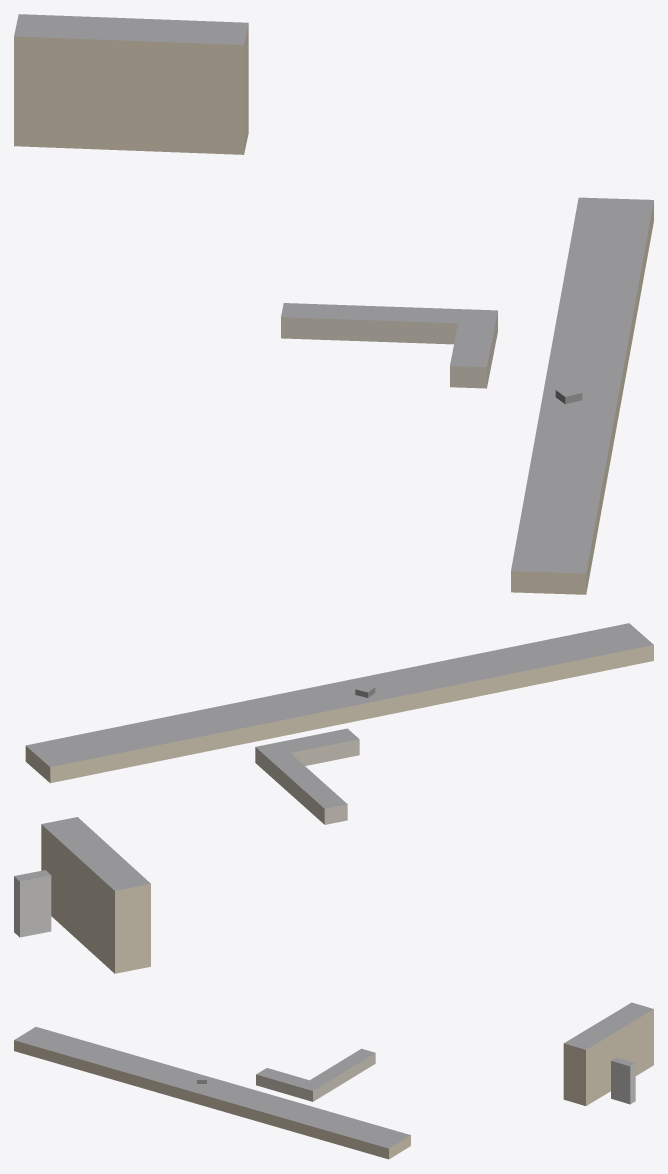
The model's file is building_-6_-5.glb.
The picture shows the model from 3 angles, top to bottom: view 1: azimuth 30°, elevation 25°; view 2: azimuth 150°, elevation 25°; view 3: azimuth 270°, elevation 25°; orthographic projection. The views are drawn at different scales.
Parts seen in each view (by area): view 1: roof, sandstone, concrete_warm; view 2: roof, sandstone, concrete_warm, concrete_light; view 3: roof, sandstone, concrete_warm, concrete_light.
Part boxes in pixels (x1,y1,x2,y2): roof: (14, 14, 653, 573); sandstone: (14, 24, 653, 594); concrete_warm: (281, 312, 497, 388); roof: (14, 623, 653, 890); sandstone: (25, 645, 653, 973); concrete_warm: (255, 739, 359, 824); concrete_light: (14, 875, 51, 937); roof: (14, 1002, 653, 1148); sandstone: (14, 1009, 653, 1159); concrete_warm: (256, 1053, 375, 1101); concrete_light: (611, 1061, 635, 1104).
Size of the model in its own units: 71.99 by 15.49 by 160.
